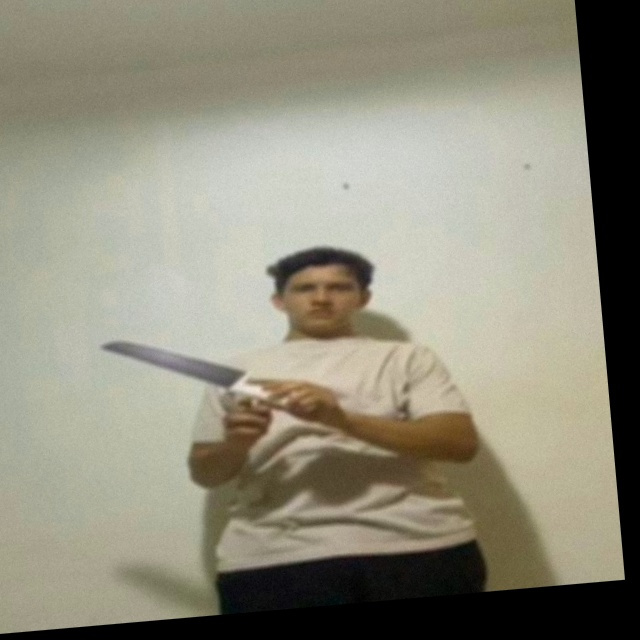Sharp-Object: (91, 328, 247, 389)
